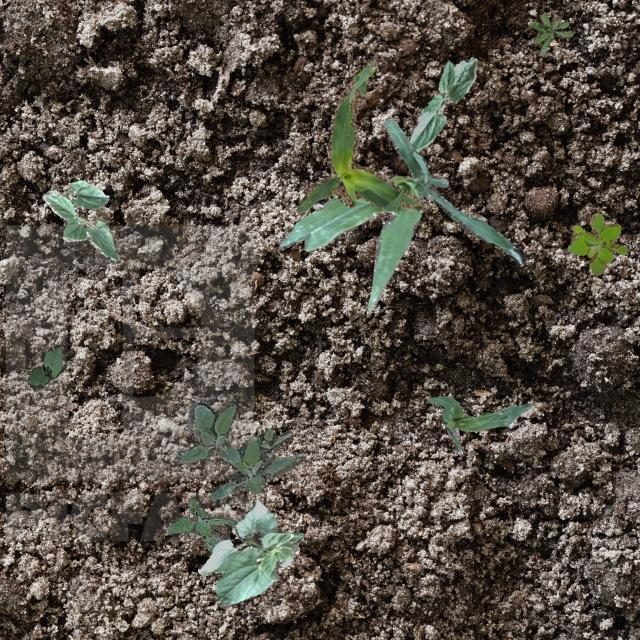crop: (280, 118, 524, 310), (296, 58, 428, 214), (196, 498, 302, 574), (214, 530, 298, 608), (408, 56, 476, 150), (42, 178, 118, 260), (428, 394, 530, 450), (26, 344, 62, 384)
weed: (172, 398, 304, 500), (166, 498, 236, 552), (566, 212, 626, 274), (530, 12, 572, 54)
